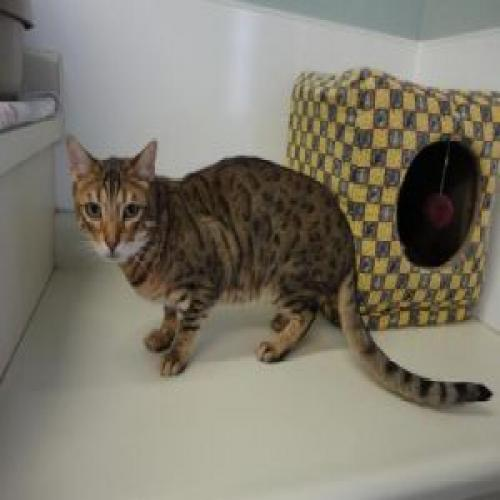bengal: (63, 127, 169, 271)
